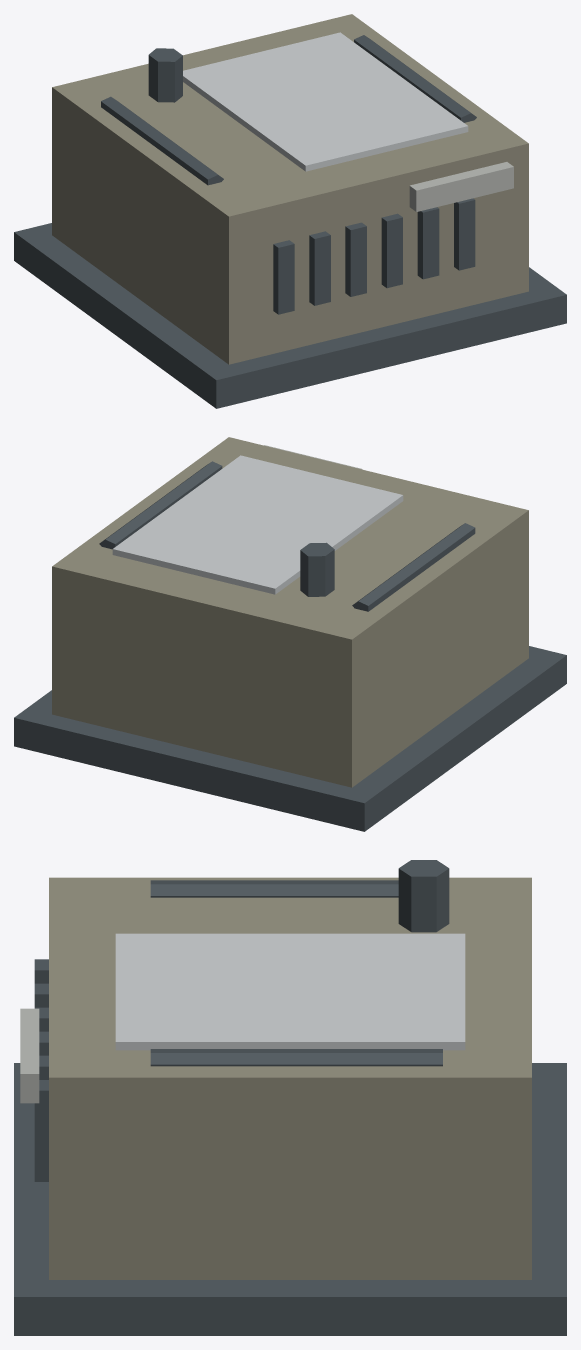
Rendered from generator_unit.glb.
3 views of the same model, one above another, from view 1: azimuth 30°, elevation 25°; view 2: azimuth 150°, elevation 25°; view 3: azimuth 270°, elevation 25° (orthographic). The views are drawn at different scales.
Parts seen in each view (by area): view 1: generator_unit; view 2: generator_unit; view 3: generator_unit.
Boxes of the visible parts, bbox=[...] form: generator_unit: bbox=[14, 14, 566, 408]; generator_unit: bbox=[14, 437, 566, 831]; generator_unit: bbox=[14, 860, 566, 1335].
Size of the model in its own units: 1.92 by 1.15 by 1.92.
